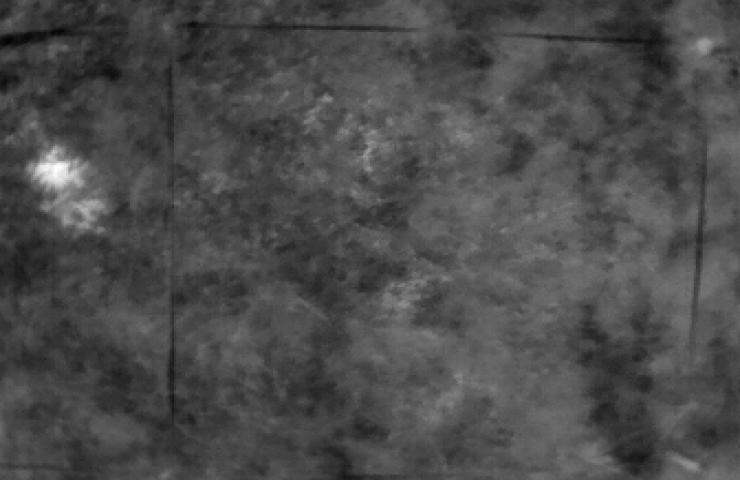landmines: (29, 143, 88, 197)
